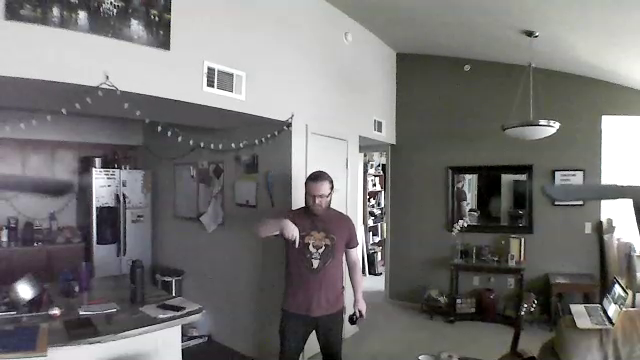down: (279, 215, 304, 251)
